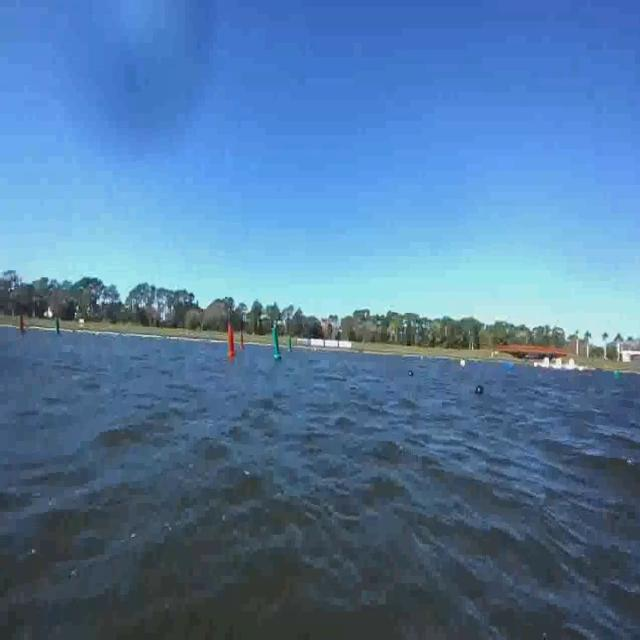black-buoy: (476, 384, 484, 395), (408, 367, 414, 376)
green-column-buoy: (272, 328, 283, 361)
red-column-buoy: (226, 324, 236, 358), (18, 315, 26, 338)
